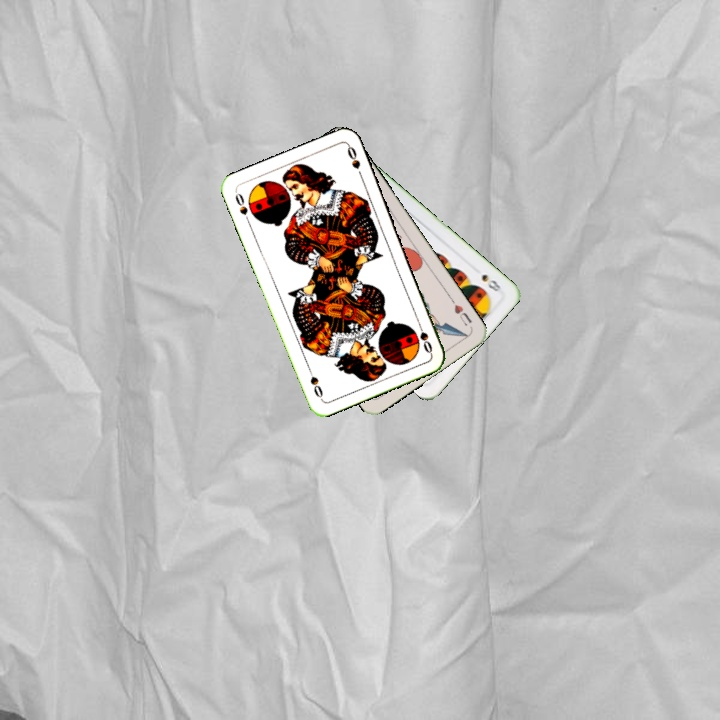HU: (447, 295, 475, 329)
S8: (477, 270, 504, 294)
SO: (413, 317, 435, 356), (231, 188, 253, 227)
